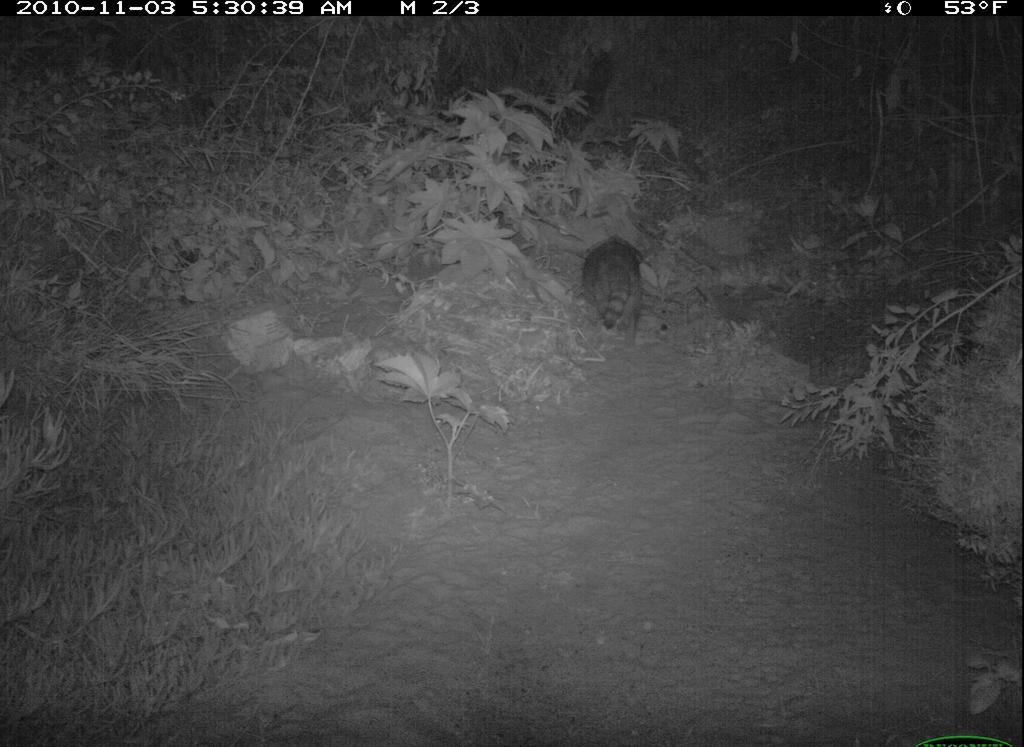raccoon: (566, 216, 658, 355)
